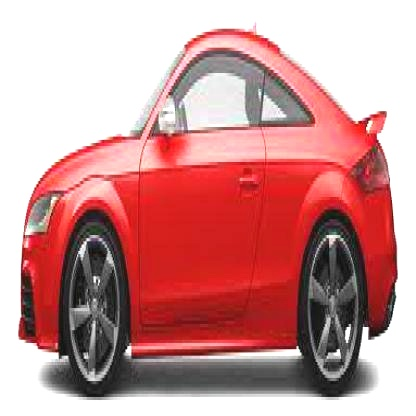Vehicle: (18, 26, 401, 400)
